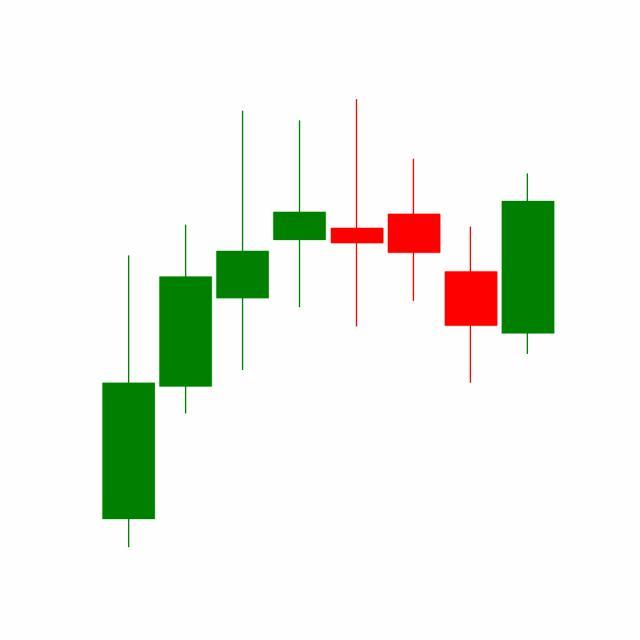Three Line Strike: (326, 99, 555, 387)
